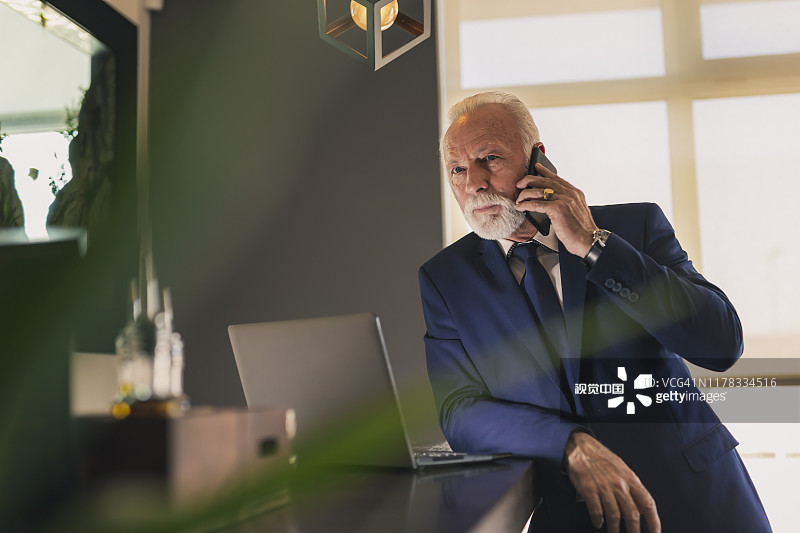calling: (511, 142, 614, 271)
